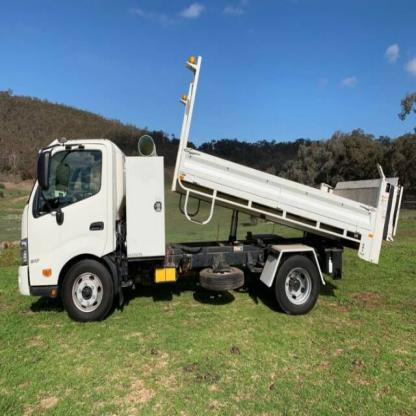dump_truck: (17, 41, 411, 318)
